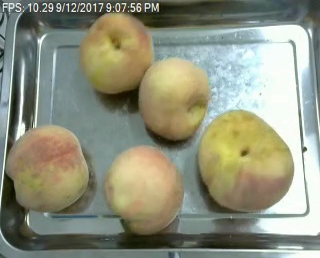Peach: (197, 108, 295, 212), (8, 124, 90, 214), (103, 143, 184, 232), (78, 10, 154, 94), (138, 58, 211, 141)
